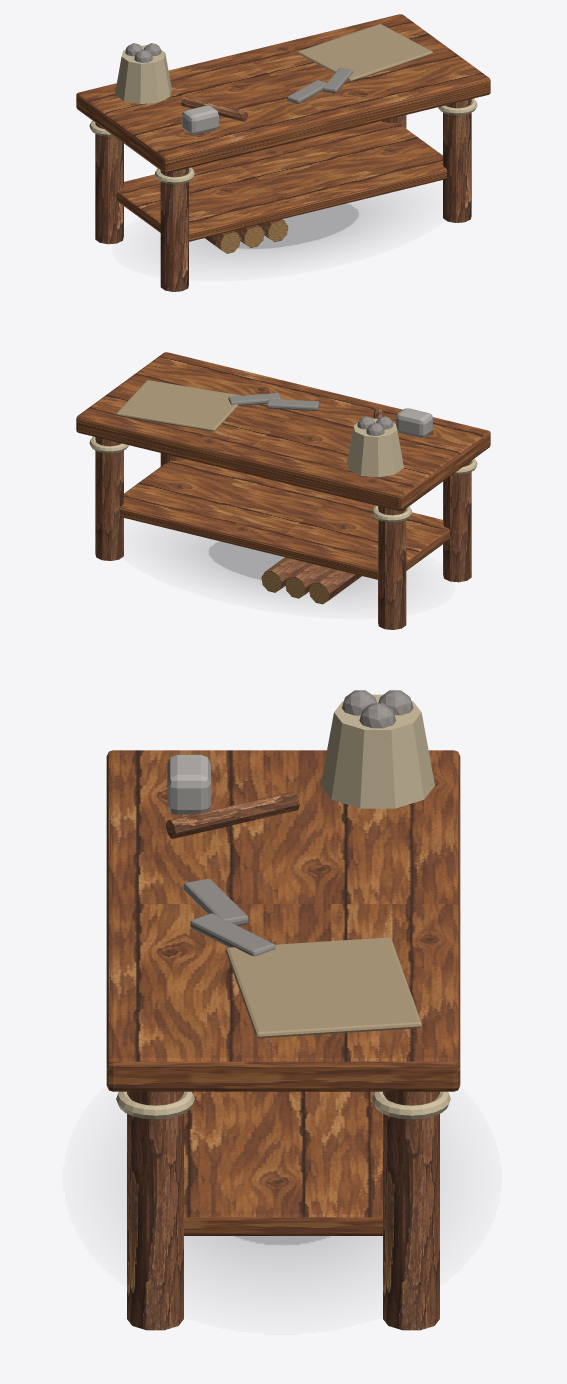
File: workbench.glb
3 views of the same model, one above another, from view 1: azimuth 30°, elevation 25°; view 2: azimuth 150°, elevation 25°; view 3: azimuth 270°, elevation 25° (orthographic). The views are drawn at different scales.
Visible parts, largest first — view 1: top, shelf, hide, ContactShadow, leg, leg.002, leg.001, basket, hammerHead, hammerHandle, logStore, logStore.001 (+3 smaller); view 2: top, shelf, hide, leg.001, leg.003, leg, ContactShadow, basket, logStore, hammerHead, logStore.001, logStore.002 (+2 smaller); view 3: top, shelf, hide, leg.002, leg.003, basket, ContactShadow, hammerHandle, hammerHead, blade, blade.001, lash.003 (+1 smaller).
Boxes of the visible parts, x1,y1,x2,y2 form: top: (76, 14, 490, 173); shelf: (117, 121, 446, 241); hide: (297, 24, 432, 81); ContactShadow: (193, 199, 376, 254); leg: (160, 168, 188, 291); leg.002: (443, 99, 471, 222); leg.001: (95, 123, 123, 244); basket: (115, 45, 171, 104); hammerHead: (182, 105, 218, 134); hammerHandle: (181, 96, 247, 121); logStore: (205, 231, 240, 253); logStore.001: (235, 225, 264, 247); top: (76, 352, 490, 511); shelf: (120, 459, 449, 579); hide: (116, 380, 240, 431); leg.001: (378, 506, 406, 629); leg.003: (95, 437, 123, 560); leg: (443, 461, 471, 582); ContactShadow: (190, 537, 373, 591); basket: (347, 418, 403, 477); logStore: (309, 569, 361, 604); hammerHead: (396, 408, 432, 437); logStore.001: (285, 563, 331, 598); logStore.002: (261, 557, 307, 592); top: (106, 750, 460, 1091); shelf: (184, 1091, 382, 1235); hide: (225, 937, 422, 1038); leg.002: (127, 1091, 183, 1330); leg.003: (383, 1091, 439, 1330); basket: (320, 694, 434, 808); ContactShadow: (198, 1236, 366, 1261); hammerHandle: (166, 791, 299, 838); hammerHead: (167, 754, 210, 814); blade: (190, 913, 275, 956); blade.001: (183, 878, 248, 925); lash.003: (116, 1091, 194, 1119).
Size of the model in its own units: 2.7 by 1.23 by 1.6.
9 materials, 4 textured.
